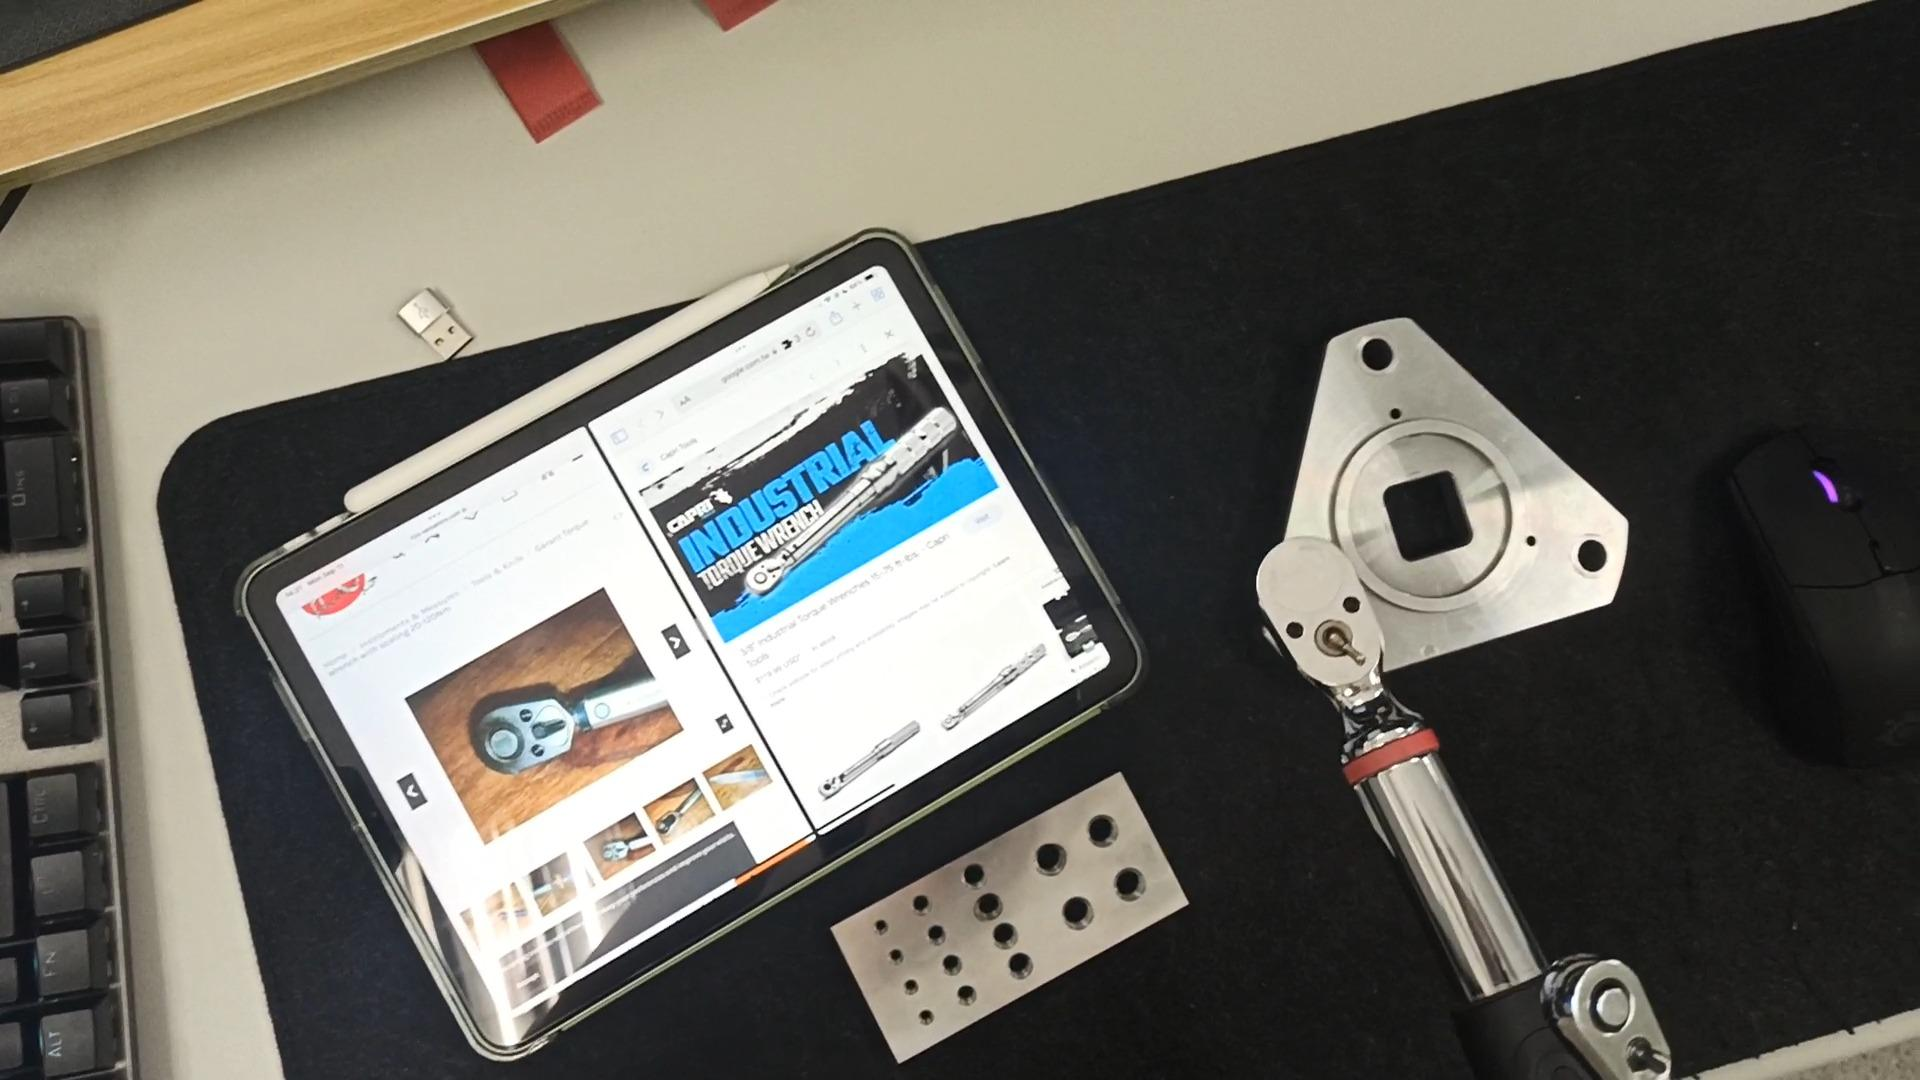Tool: (1246, 531, 1395, 727), (1547, 936, 1680, 1080), (462, 691, 584, 769), (736, 559, 794, 601)
hole: (1564, 530, 1627, 579), (1065, 810, 1133, 852), (1345, 338, 1404, 382), (1047, 897, 1110, 938), (1095, 868, 1155, 909), (1010, 841, 1072, 881), (959, 897, 1013, 928), (993, 953, 1047, 985), (938, 861, 986, 893), (978, 924, 1030, 952), (907, 924, 945, 947), (923, 959, 961, 981), (895, 897, 934, 919), (942, 989, 980, 1010), (858, 920, 893, 939), (902, 1009, 936, 1027), (889, 980, 922, 998), (876, 947, 907, 965)
